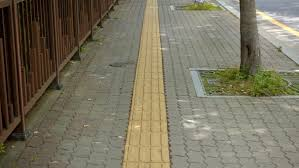guide_blocks: (123, 78, 169, 166), (138, 32, 162, 78), (142, 1, 158, 32)
